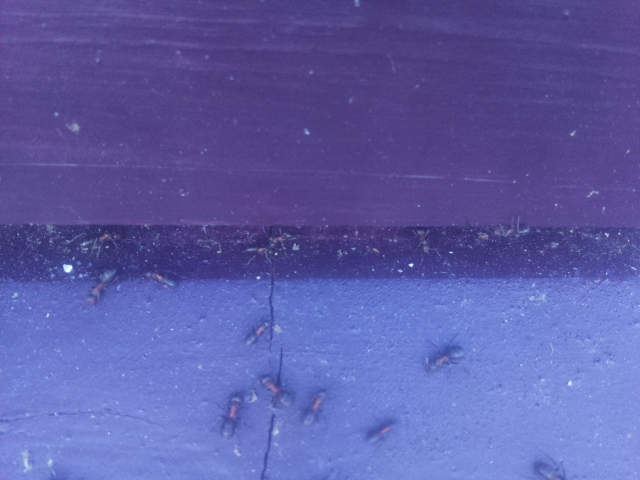ant: (253, 367, 297, 413), (216, 388, 246, 444), (84, 265, 121, 308), (239, 317, 285, 348), (428, 337, 466, 374), (302, 386, 325, 430), (365, 421, 395, 446), (144, 270, 178, 290)
